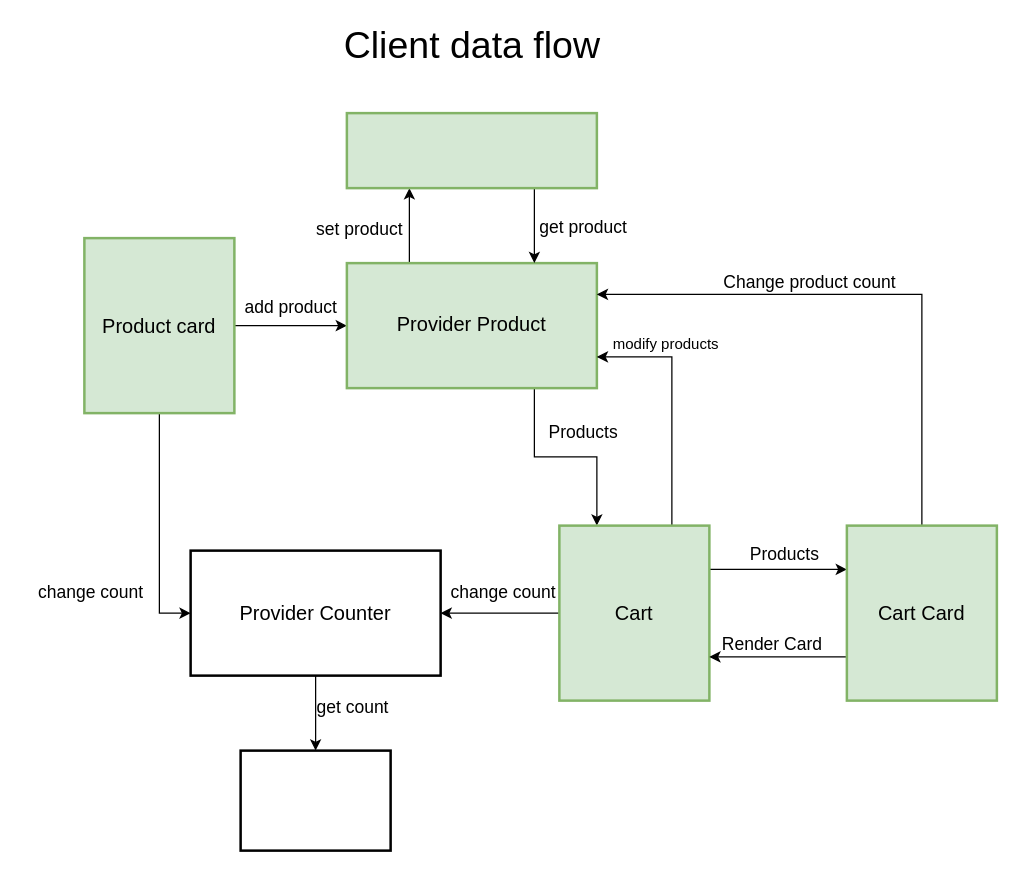
Some shapes in this 1019 by 873 pixel diagram are drawn without their labels. Each missing label, with the box of its shape:
Header Cart Button: (239, 749, 391, 851)
Session Storage: (345, 111, 598, 189)
